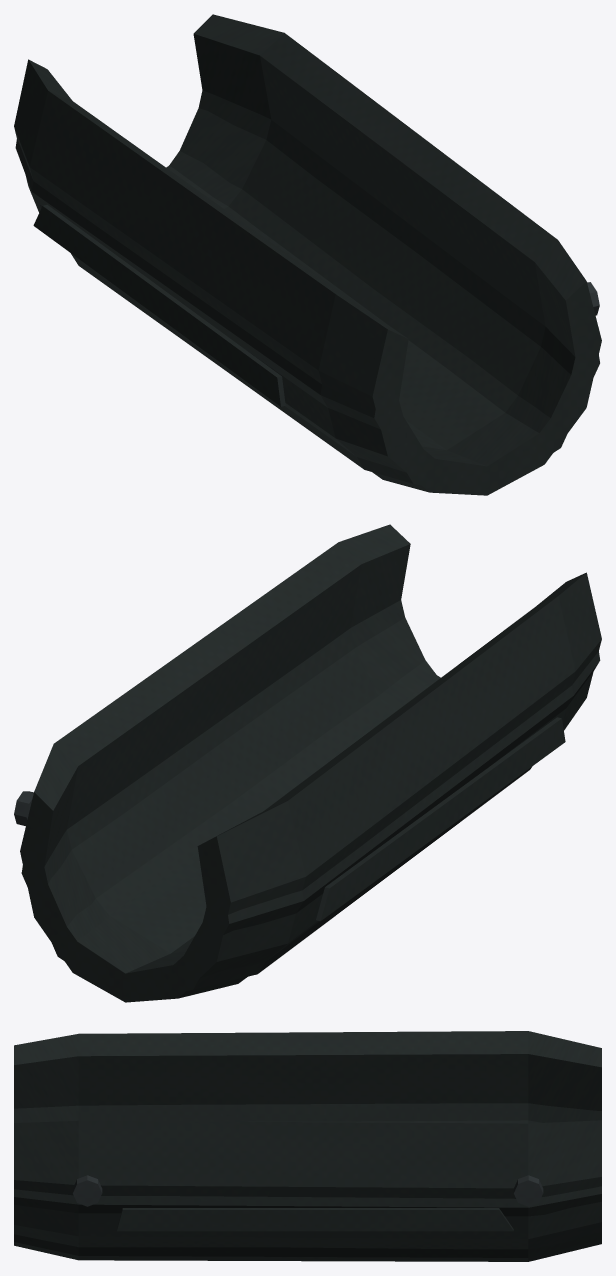
The model's file is val_guard.glb.
3 renders of one model, top to bottom at view 1: azimuth 30°, elevation 25°; view 2: azimuth 150°, elevation 25°; view 3: azimuth 270°, elevation 25°, orthographic. The views are drawn at different scales.
Visible parts, largest first — view 1: handguard__val_guard_LOD0_RAID_Secondary_Original_polymer, handguard__val_guard_LOD1_RAID_Secondary_Original_polymer; view 2: handguard__val_guard_LOD0_RAID_Secondary_Original_polymer, handguard__val_guard_LOD1_RAID_Secondary_Original_polymer; view 3: handguard__val_guard_LOD0_RAID_Secondary_Original_polymer, handguard__val_guard_LOD1_RAID_Secondary_Original_polymer, handguard__val_guard_LOD0_RAID_Secondary_Original_steel.
Part boxes in pixels (x1,y1,x2,y2): handguard__val_guard_LOD0_RAID_Secondary_Original_polymer: [14, 14, 601, 495]; handguard__val_guard_LOD1_RAID_Secondary_Original_polymer: [15, 34, 599, 495]; handguard__val_guard_LOD0_RAID_Secondary_Original_polymer: [20, 524, 601, 1002]; handguard__val_guard_LOD1_RAID_Secondary_Original_polymer: [21, 544, 600, 1002]; handguard__val_guard_LOD0_RAID_Secondary_Original_polymer: [14, 1031, 601, 1261]; handguard__val_guard_LOD1_RAID_Secondary_Original_polymer: [14, 1054, 601, 1257]; handguard__val_guard_LOD0_RAID_Secondary_Original_steel: [72, 1175, 543, 1206].
Bounding box in the file's own units: 0.0917 × 0.0651 × 0.2.
2 materials, 2 textured.
